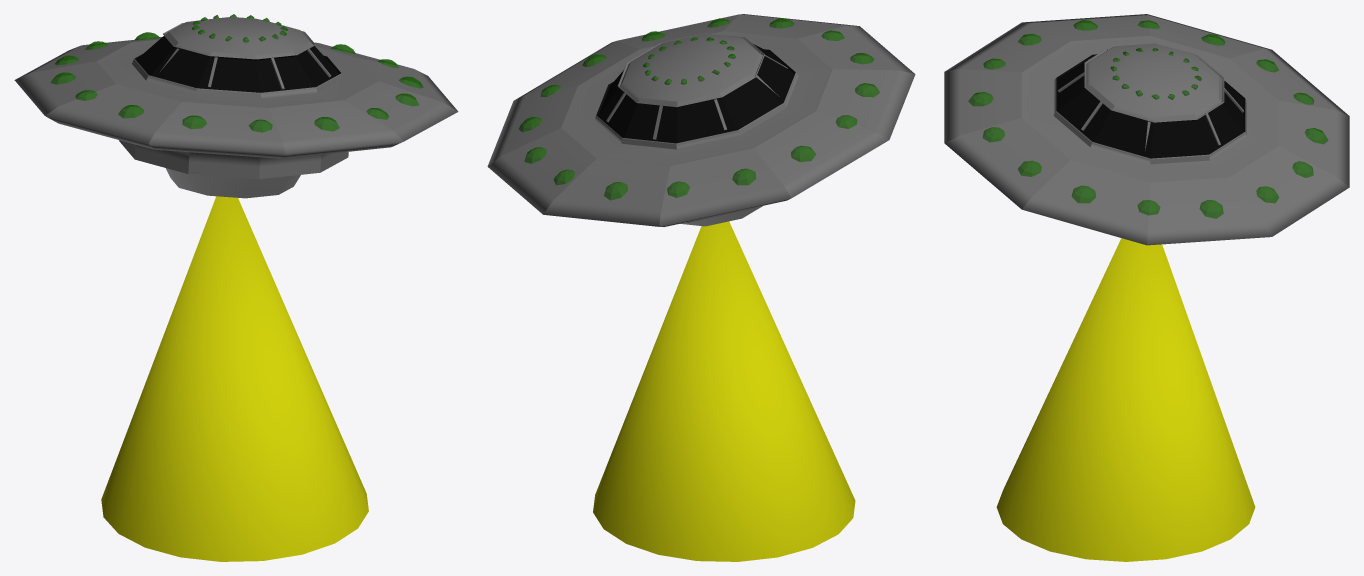
File: UFO.dae
3 views of the same model, side by side, from view 1: azimuth 30°, elevation 25°; view 2: azimuth 150°, elevation 25°; view 3: azimuth 270°, elevation 25° (orthographic). The views are drawn at different scales.
Parts seen in each view (by area): view 1: light, body; view 2: body, light; view 3: body, light.
Part boxes in pixels (<box>): light: <box>101,196,368,561</box>; body: <box>14,14,458,198</box>; body: <box>487,14,915,226</box>; light: <box>593,221,855,561</box>; body: <box>944,14,1349,245</box>; light: <box>996,238,1255,561</box>.
Size of the model in its own units: 18.27 by 21.44 by 17.38.
